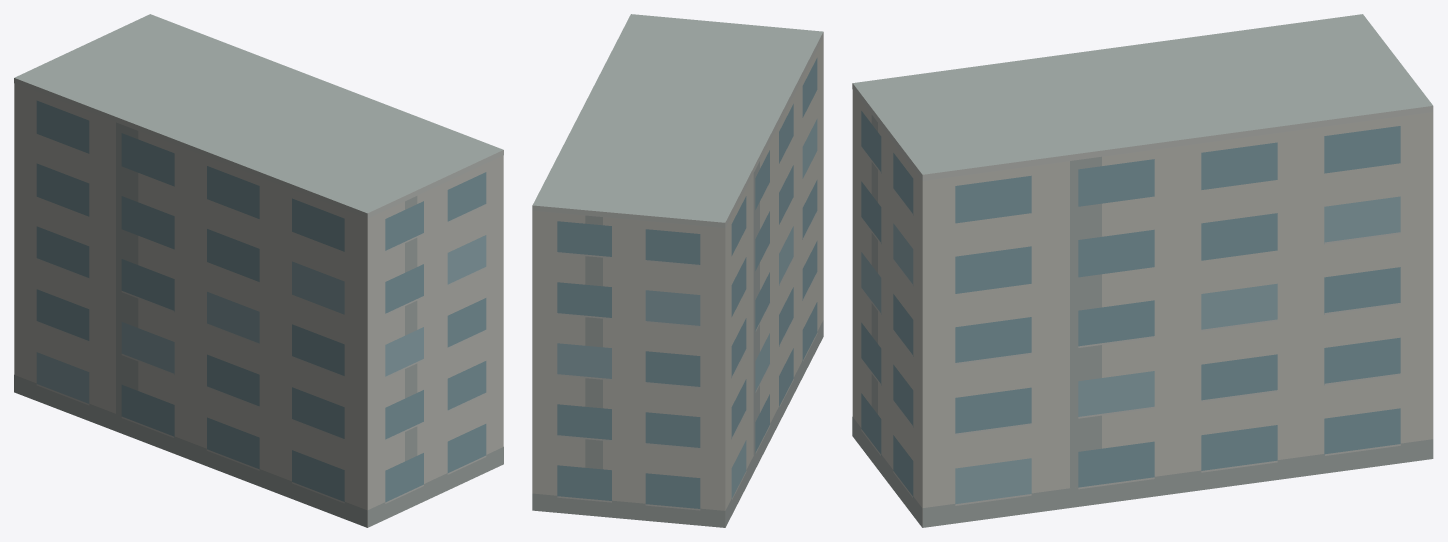
The model's file is survey-upis-32621403.glb.
3 views of the same model, side by side, from view 1: azimuth 30°, elevation 25°; view 2: azimuth 150°, elevation 25°; view 3: azimuth 270°, elevation 25° (orthographic). The views are drawn at different scales.
Parts seen in each view (by area): view 1: survey-upis-32621403.tmp; view 2: survey-upis-32621403.tmp; view 3: survey-upis-32621403.tmp.
Boxes of the visible parts, x1,y1,x2,y2 form: survey-upis-32621403.tmp: (14,14,503,527); survey-upis-32621403.tmp: (532,14,823,527); survey-upis-32621403.tmp: (852,14,1433,527).
Size of the model in its own units: 13.63 by 13.95 by 20.81.
